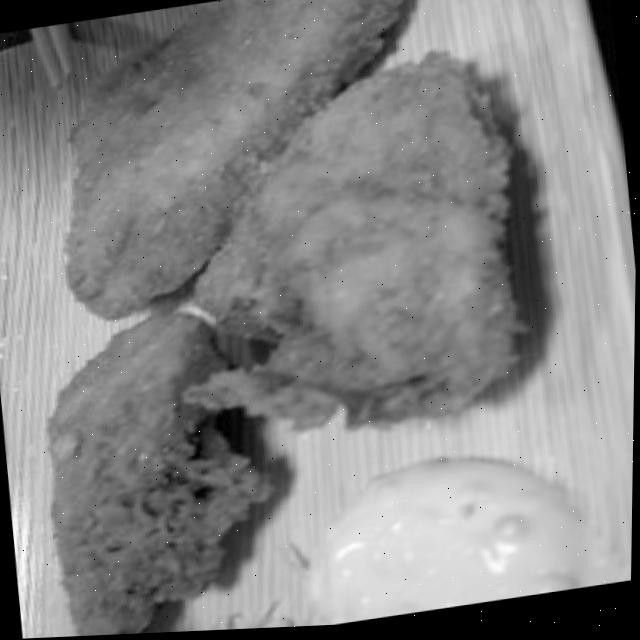炸货点心: (38, 0, 533, 638)
熟制海鲜: (38, 0, 533, 638)
